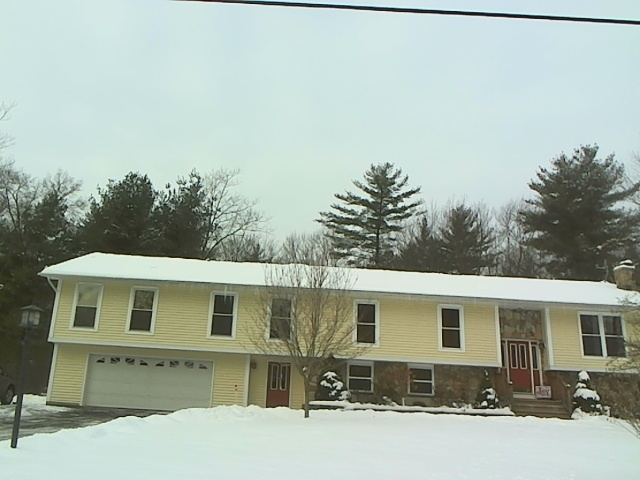Ploughed: (29, 395, 150, 432)
